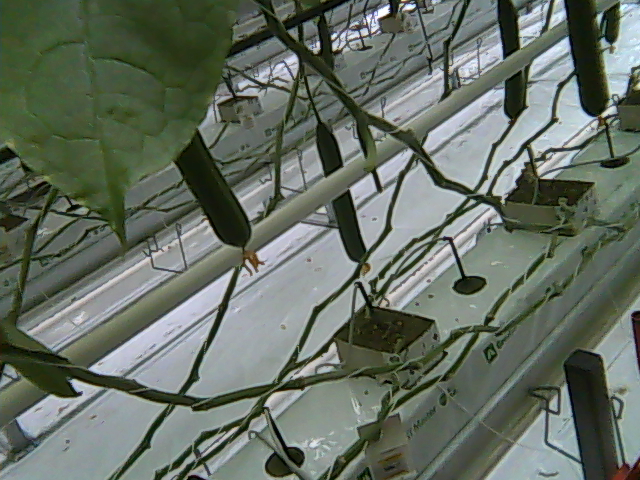concombre: (173, 129, 271, 279)
